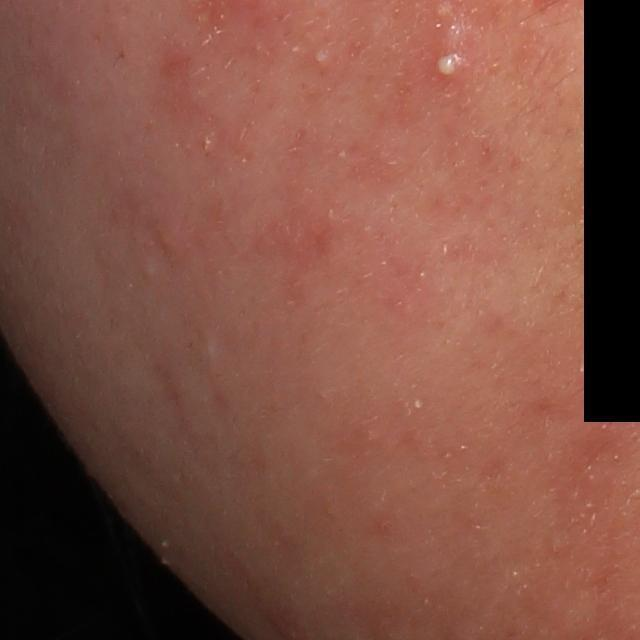comedo: (139, 261, 161, 280)
pustule: (434, 50, 459, 80)
